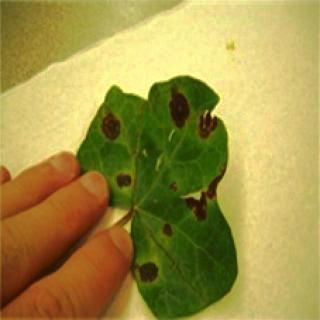blight: (95, 74, 237, 244)
